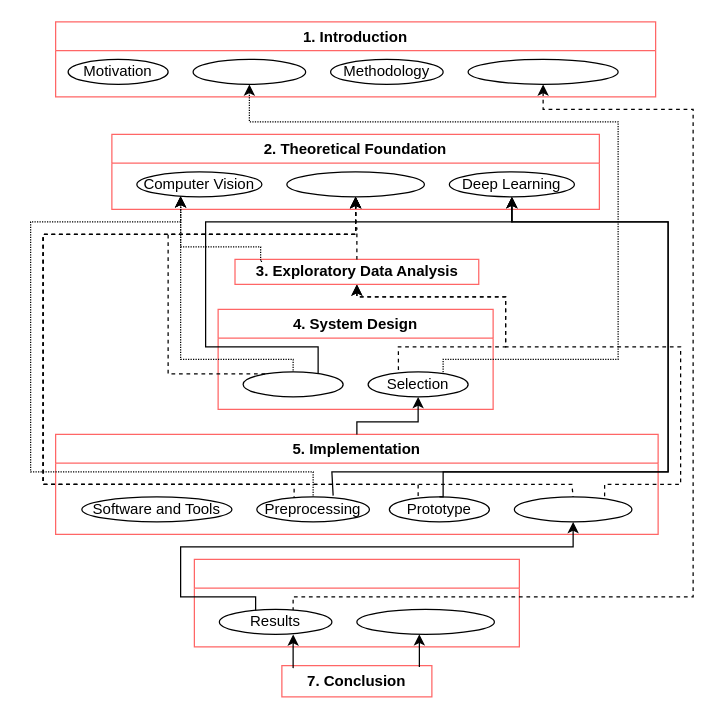
Image size: 725x719. Some labels were removed from this diagram. The shapes that lost their labels are listed below. From the top down, each one's box as (x1, y1, x2, y2) in pixels, then its label:
(192, 58, 306, 84): Problem
(467, 58, 618, 84): Expected Results
(286, 171, 424, 197): Machine Learning
(242, 371, 343, 397): Comparison
(513, 496, 632, 522): Optimizations
(193, 558, 519, 647): 6. Discussion
(356, 608, 494, 634): Method Reflection
